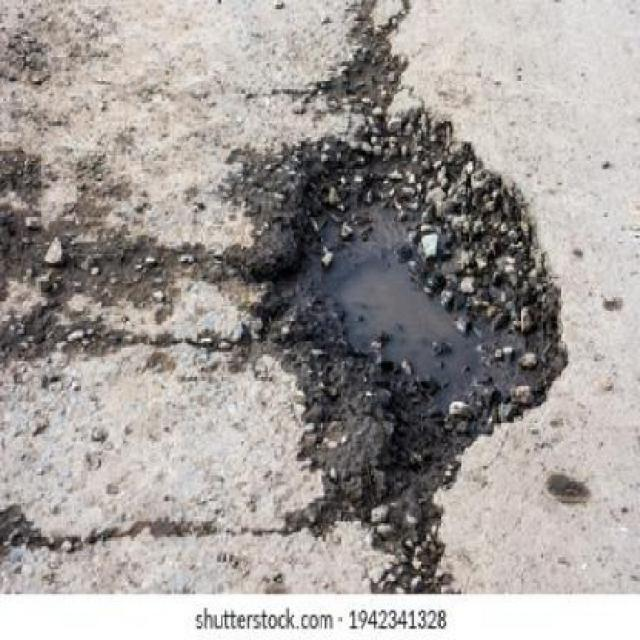pothole: (282, 107, 573, 467)
